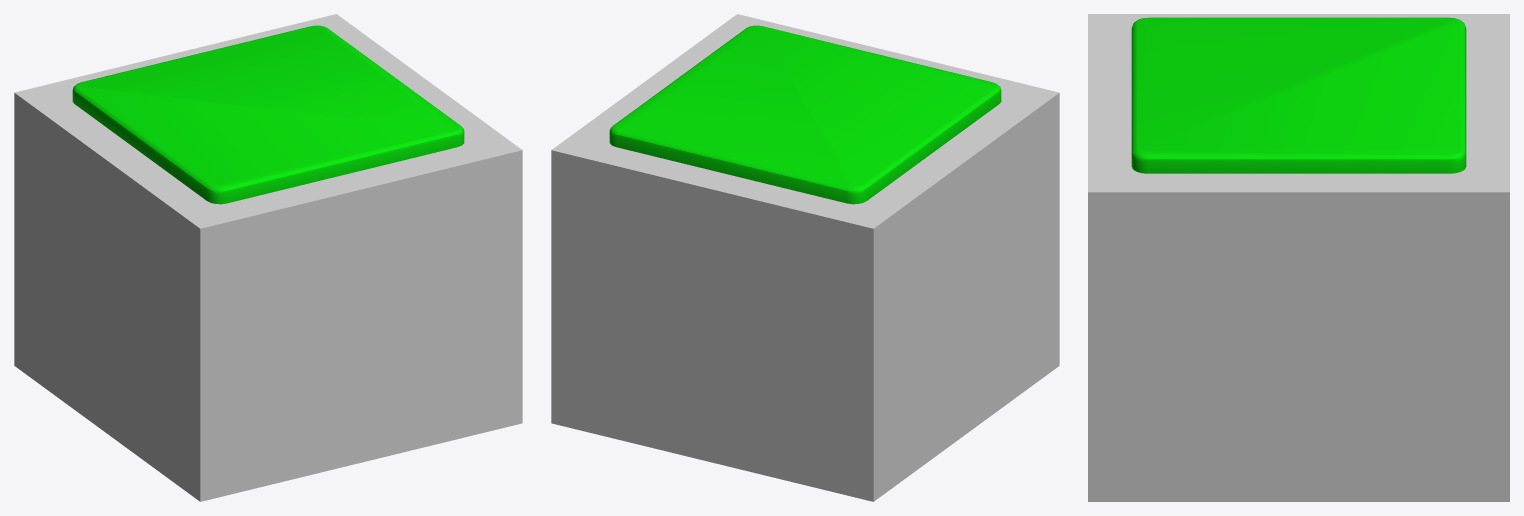
Rendered from NormalTile.fbx.
The picture shows the model from 3 angles, left to right: view 1: azimuth 30°, elevation 25°; view 2: azimuth 150°, elevation 25°; view 3: azimuth 270°, elevation 25°; orthographic projection. The views are drawn at different scales.
Parts seen in each view (by area): view 1: NormalTile; view 2: NormalTile; view 3: NormalTile.
Part boxes in pixels (x1,y1,x2,y2): NormalTile: (14, 14, 522, 501); NormalTile: (551, 14, 1059, 501); NormalTile: (1088, 14, 1509, 501).
Bounding box in the file's own units: 100 × 85.38 × 100.
